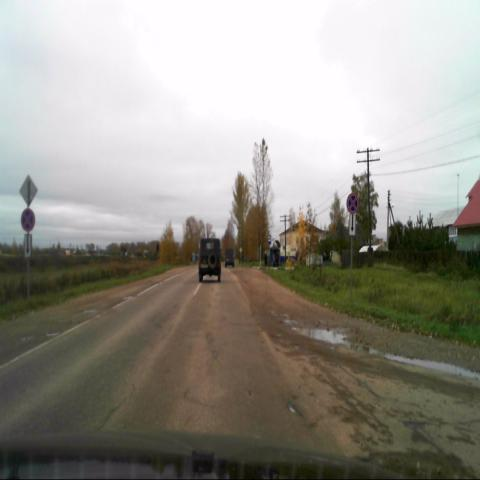3_27: (21, 208, 35, 233), (346, 193, 359, 213)
